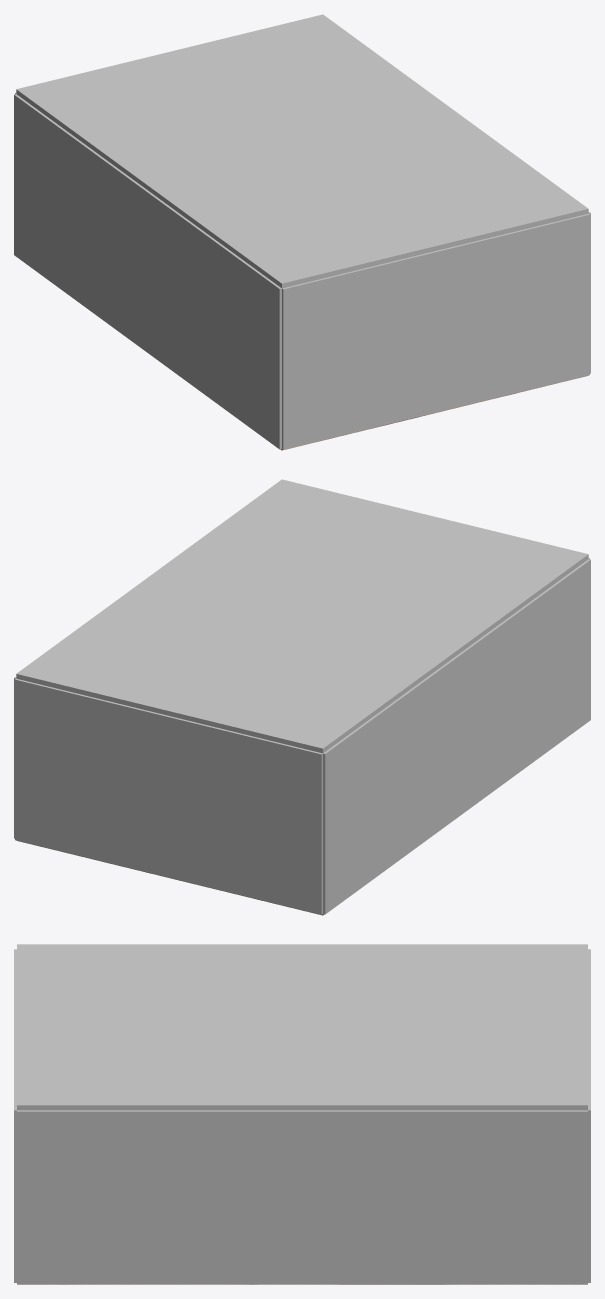
File: ComplexBuilding2.obj
3 views of the same model, one above another, from view 1: azimuth 30°, elevation 25°; view 2: azimuth 150°, elevation 25°; view 3: azimuth 270°, elevation 25° (orthographic). The views are drawn at different scales.
Parts seen in each view (by area): view 1: Roof, BackWall, LeftWall; view 2: Roof, FrontWall, LeftWall; view 3: RightWall, Roof, BackWall, FrontWall, Floor.
Part boxes in pixels (bbox=[...]): Roof: bbox=[16, 14, 588, 288]; BackWall: bbox=[282, 213, 589, 449]; LeftWall: bbox=[14, 94, 281, 449]; Roof: bbox=[16, 479, 588, 753]; FrontWall: bbox=[15, 678, 322, 914]; LeftWall: bbox=[323, 559, 590, 914]; RightWall: bbox=[17, 1110, 587, 1284]; Roof: bbox=[17, 944, 587, 1110]; BackWall: bbox=[14, 949, 16, 1282]; FrontWall: bbox=[588, 949, 590, 1282]; Floor: bbox=[17, 1284, 587, 1284].
Size of the model in its own units: 20.3 by 10.4 by 30.3.
